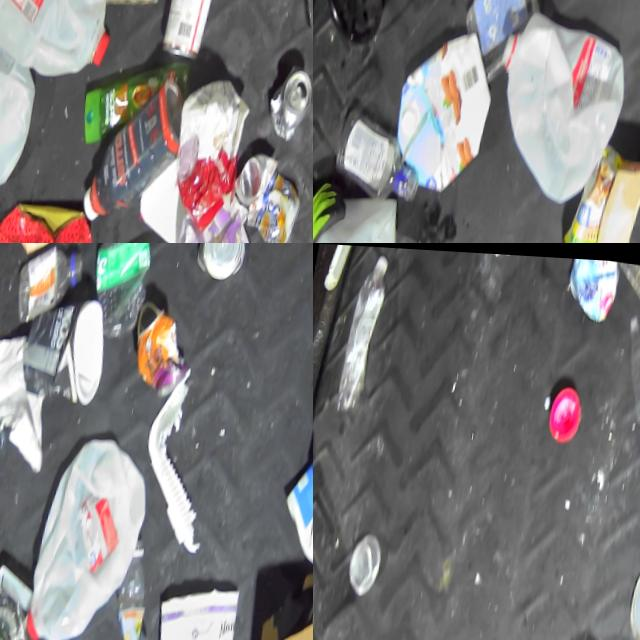can: (249, 169, 306, 243), (160, 0, 225, 61), (271, 57, 313, 136), (193, 243, 253, 283)
milk_jug: (482, 0, 639, 206), (23, 440, 155, 640), (0, 0, 125, 79), (0, 22, 44, 199), (315, 178, 416, 243)
plastic_bottle: (328, 248, 388, 415), (81, 243, 164, 341)
